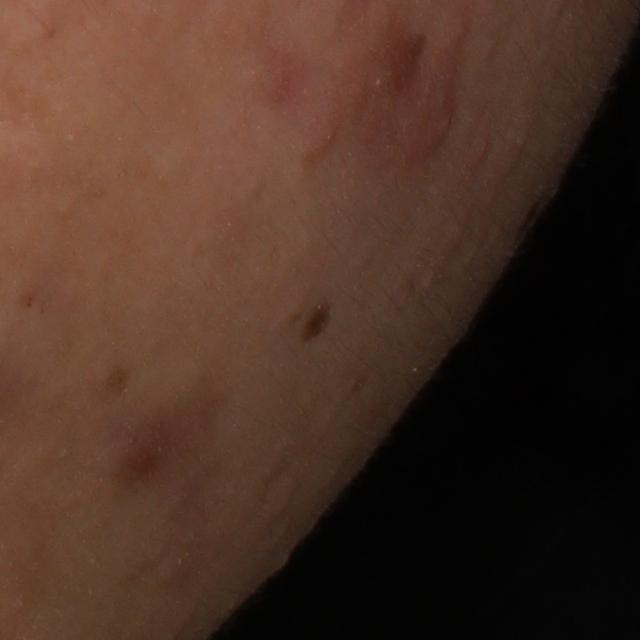nevus: (299, 297, 333, 344)
papule: (395, 55, 466, 170)
